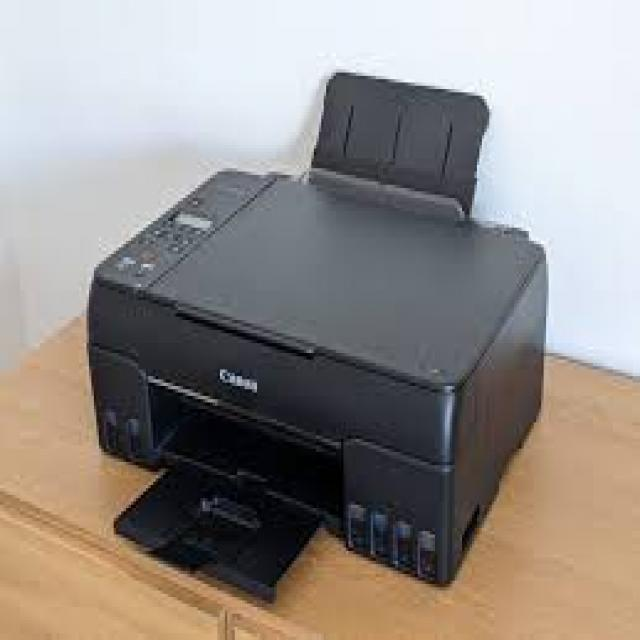printer: (64, 33, 575, 612)
